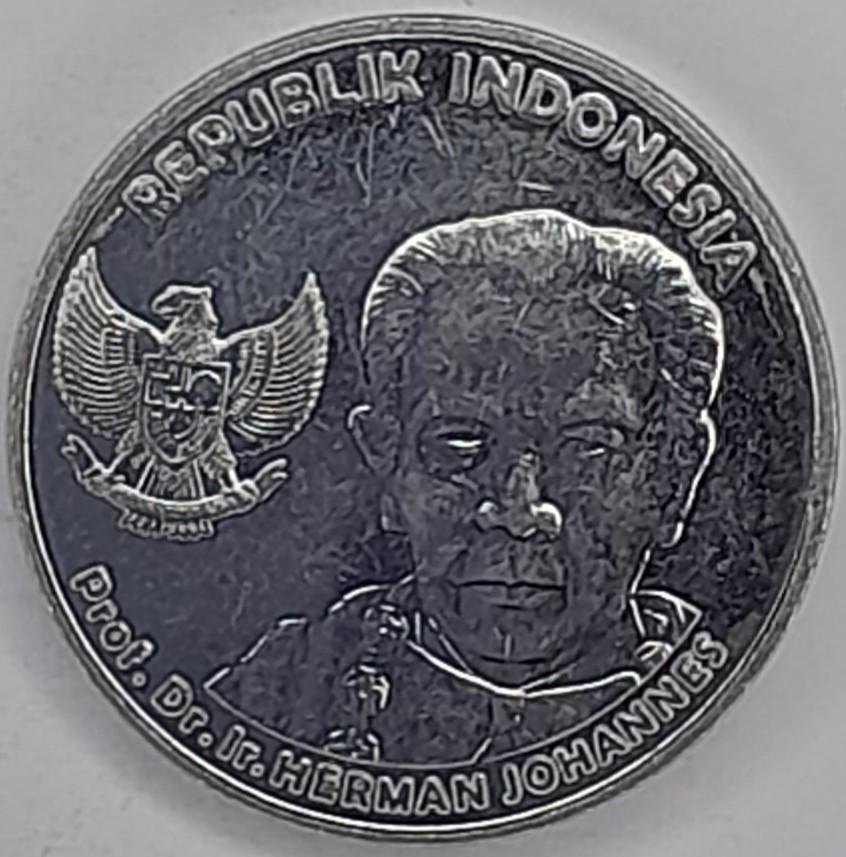coin_100_e2016: (0, 3, 845, 844)
